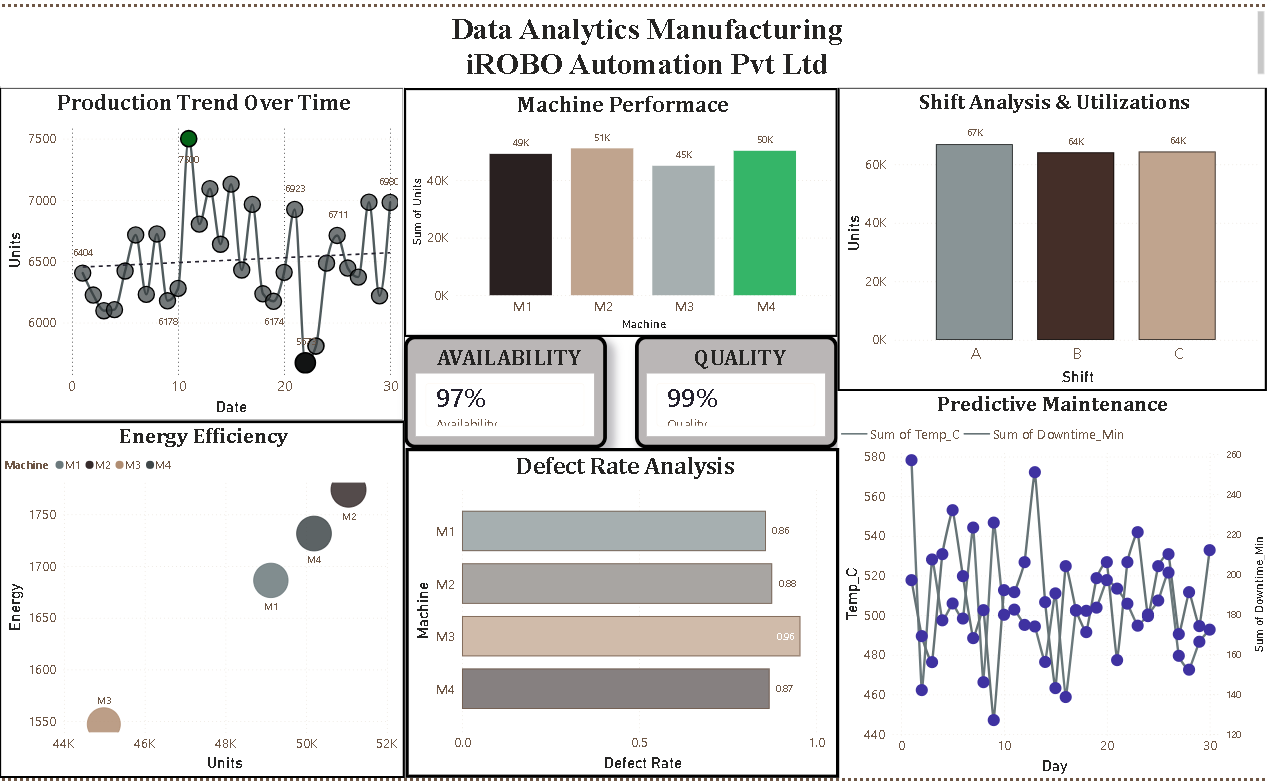

The dashboard page shown, as its layout file describes it:
{"tool":"powerbi","page":{"name":"Dashboard","canvas":[1580,960],"ordinal":8},"visuals":[{"type":"lineChart","title":"Production Trend Over Time","fields":{"Y":["Sum(Sheet1.Units)"],"Category":["Sheet1.Date.Variation.Date Hierarchy.Day"]},"box":[0,98.8,505,417.2],"z":0},{"type":"clusteredColumnChart","title":"Machine Performace","fields":{"Category":["Sheet1.Machine"],"Y":["Sum(Sheet1.Units)"]},"box":[505,100,540,310],"z":1000},{"type":"cardVisual","title":"AVAILABILITY","fields":{"Data":["Sheet1.Availability"]},"box":[505,409.9,252.5,140.9],"z":2000},{"type":"cardVisual","title":"QUALITY","fields":{"Data":["Sheet1.Quality"]},"box":[792.3,409.9,252.5,140.9],"z":3000},{"type":"clusteredColumnChart","title":"Shift Analysis & Utilizations","fields":{"Category":["Sheet1.Shift"],"Y":["Sum(Sheet1.Units)"]},"box":[1044.8,99.1,534.6,379.4],"z":4000},{"type":"scatterChart","title":"Energy Efficiency","fields":{"Series":["Sheet1.Machine"],"Size":["Sum(Sheet1.Units)"],"X":["Sum(Sheet1.Units)"],"Y":["Sum(Sheet1.Energy_kWh)"]},"box":[0,516,505,444.6],"z":5000},{"type":"textbox","box":[1.9,0,1578.1,100.9],"z":6000},{"type":"lineChart","title":"Predictive Maintenance","fields":{"Category":["Sheet1.Date.Variation.Date Hierarchy.Day"],"Y":["Sum(Sheet1.Temp_C)"],"Y2":["Sum(Sheet1.Downtime_Min)"]},"box":[1044,478.1,536,481.8],"z":7000},{"type":"barChart","title":"Defect Rate Analysis","fields":{"Category":["Sheet1.Machine"],"Y":["Sum(Sheet1.Defect_Rate)"]},"box":[506.1,549.1,539.7,410.9],"z":8000}]}

Visuals, with their boxes in screenshot pixels (x1, y1, x2, y2), scaled from the page's 1580x960 canvas onto the 1271x783 screenshot:
"Production Trend Over Time" lineChart: [0,81,406,421]
"Machine Performace" clusteredColumnChart: [406,82,841,334]
"AVAILABILITY" cardVisual: [406,334,609,449]
"QUALITY" cardVisual: [637,334,840,449]
"Shift Analysis & Utilizations" clusteredColumnChart: [840,81,1270,390]
"Energy Efficiency" scatterChart: [0,421,406,782]
textbox: [2,0,1270,82]
"Predictive Maintenance" lineChart: [840,390,1270,782]
"Defect Rate Analysis" barChart: [407,448,841,782]
